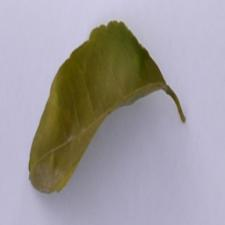Greening: (32, 67, 167, 187)
